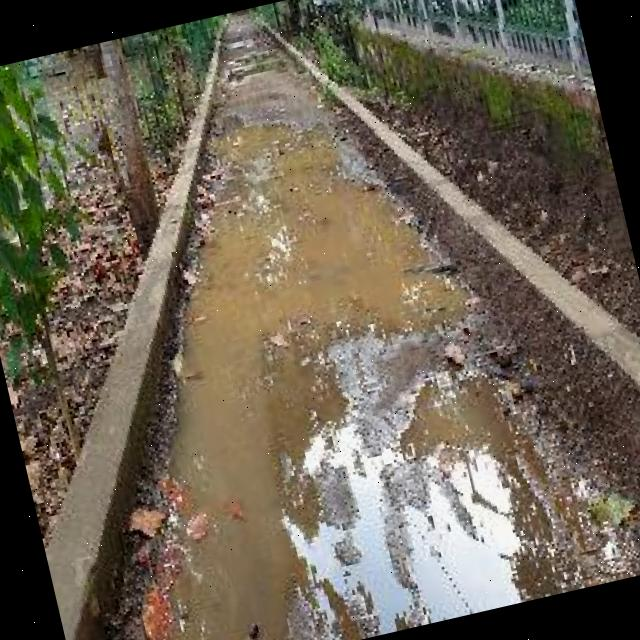stagnation: (188, 173, 479, 640)
